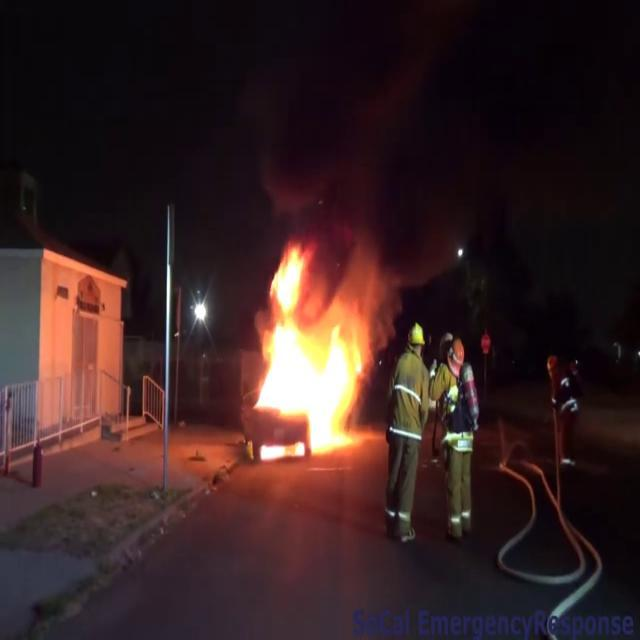Fire: (243, 236, 368, 457)
